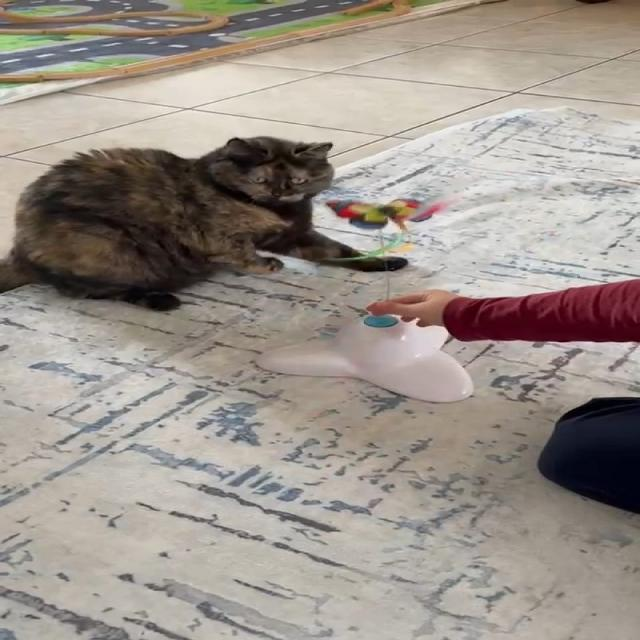authorized: (0, 134, 408, 312)
